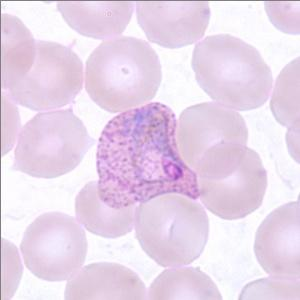Infected: (93, 99, 199, 207)
Uninfected: (192, 32, 270, 114), (4, 40, 86, 113), (84, 36, 162, 112), (135, 192, 207, 266), (198, 144, 266, 220), (175, 103, 245, 176), (18, 209, 86, 281), (15, 111, 87, 179), (135, 0, 209, 50), (76, 182, 138, 237)
